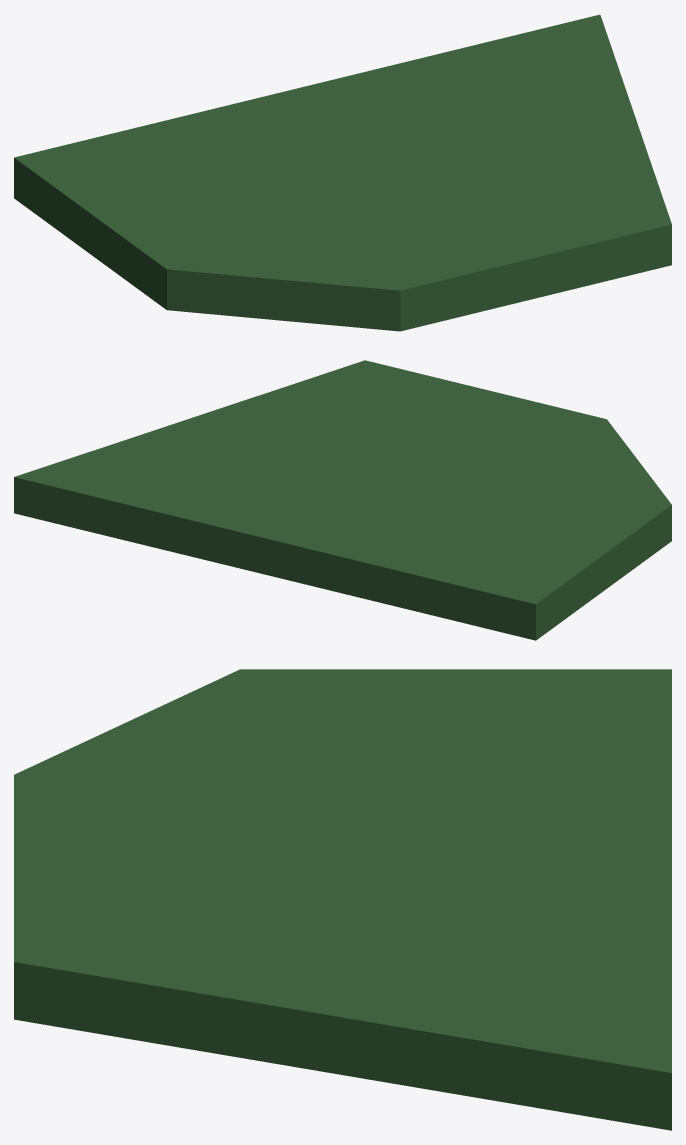
File: x_proval_00_78_1_rmstrd.fbx
3 renders of one model, top to bottom at view 1: azimuth 30°, elevation 25°; view 2: azimuth 150°, elevation 25°; view 3: azimuth 270°, elevation 25°, orthographic. The views are drawn at different scales.
Parts seen in each view (by area): view 1: x_proval_00_78_1_rmstrd1; view 2: x_proval_00_78_1_rmstrd1; view 3: x_proval_00_78_1_rmstrd1.
Boxes of the visible parts, x1,y1,x2,y2 form: x_proval_00_78_1_rmstrd1: (14,14,671,331); x_proval_00_78_1_rmstrd1: (14,360,671,640); x_proval_00_78_1_rmstrd1: (14,669,671,1130).
Size of the model in its own units: 3.01 by 0.2 by 2.07.
